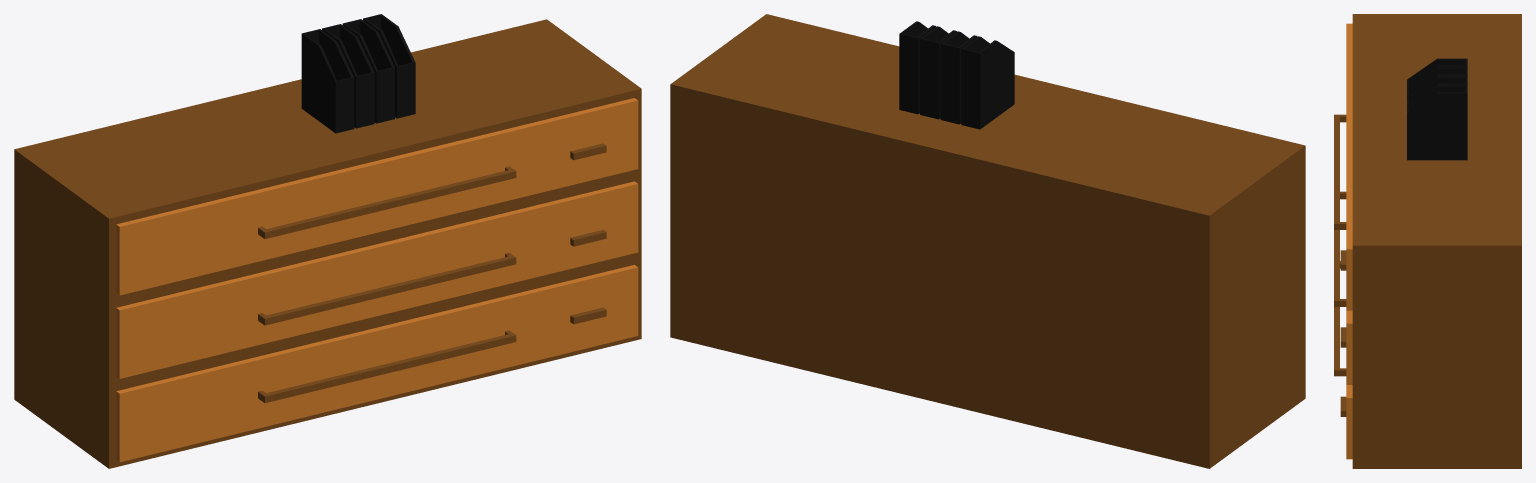
The model's file is Laci 3.fbx.
3 renders of one model, left to right at view 1: azimuth 30°, elevation 25°; view 2: azimuth 150°, elevation 25°; view 3: azimuth 270°, elevation 25°, orthographic. The views are drawn at different scales.
Visible parts, largest first — view 1: Cube, Cube.001; view 2: Cube, Cube.001; view 3: Cube, Cube.001.
Boxes of the visible parts, left/top/right/bottom form: Cube: left=14, top=19, right=641, bottom=468; Cube.001: left=301, top=14, right=415, bottom=133; Cube: left=670, top=14, right=1305, bottom=468; Cube.001: left=899, top=21, right=1014, bottom=129; Cube: left=1334, top=14, right=1521, bottom=468; Cube.001: left=1407, top=58, right=1467, bottom=160.
Bounding box in the file's own units: 1807 × 1056 × 618.
